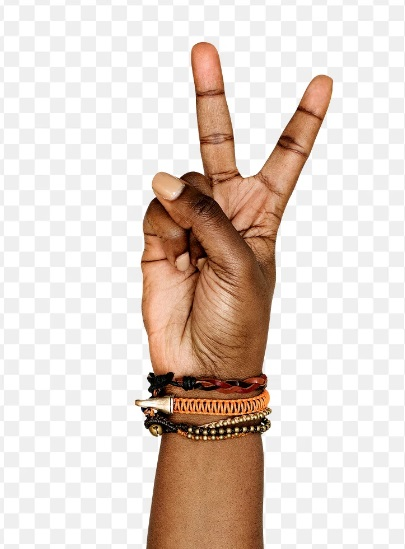peace: (138, 41, 334, 384)
